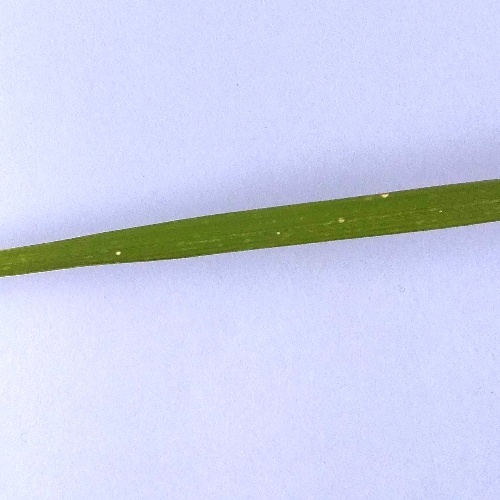Busuk Leher: (334, 213, 355, 228), (112, 243, 125, 264), (375, 190, 395, 201)
